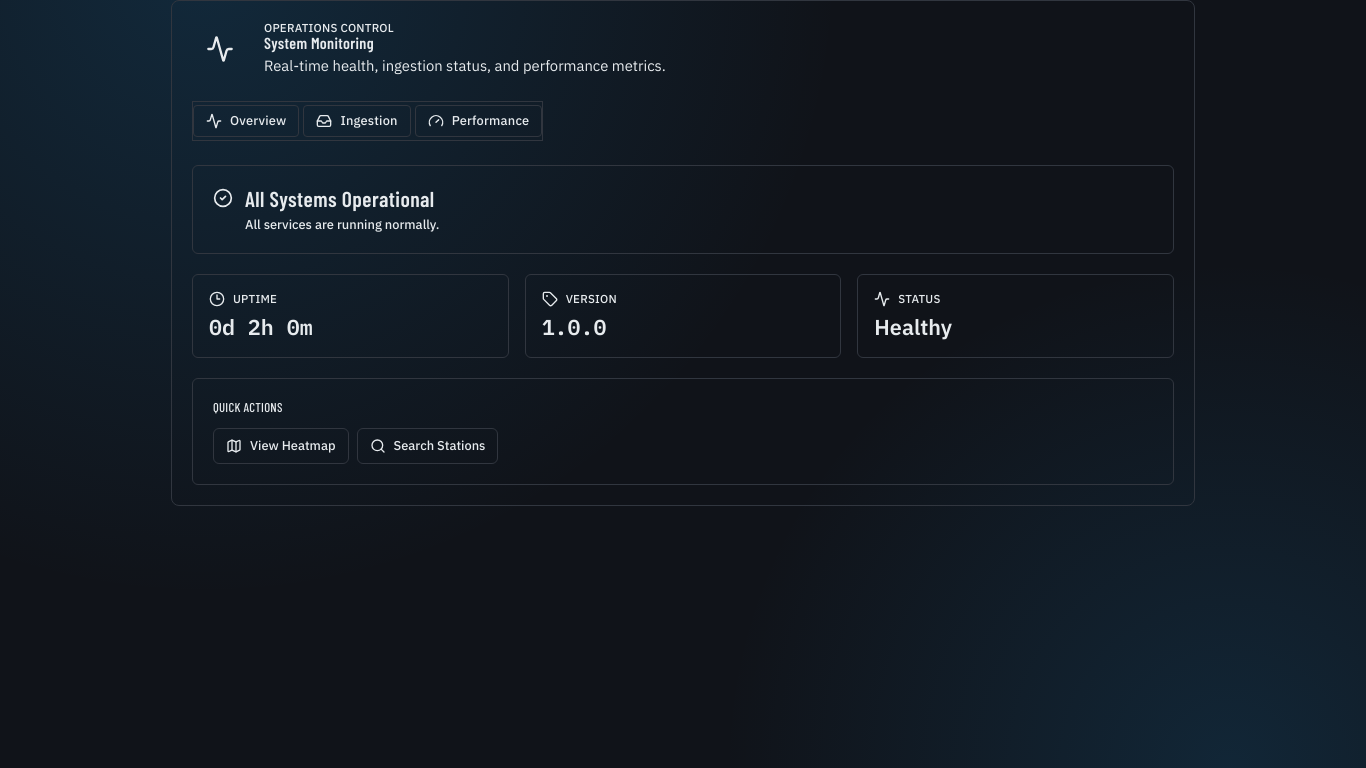
Test: MonitoringPage › switches to Ingestion tab when clicked
This screenshot has width=1366, height=768.
Click the tab "Ingestion" at (357,121), box left=303, top=105, right=411, bottom=137
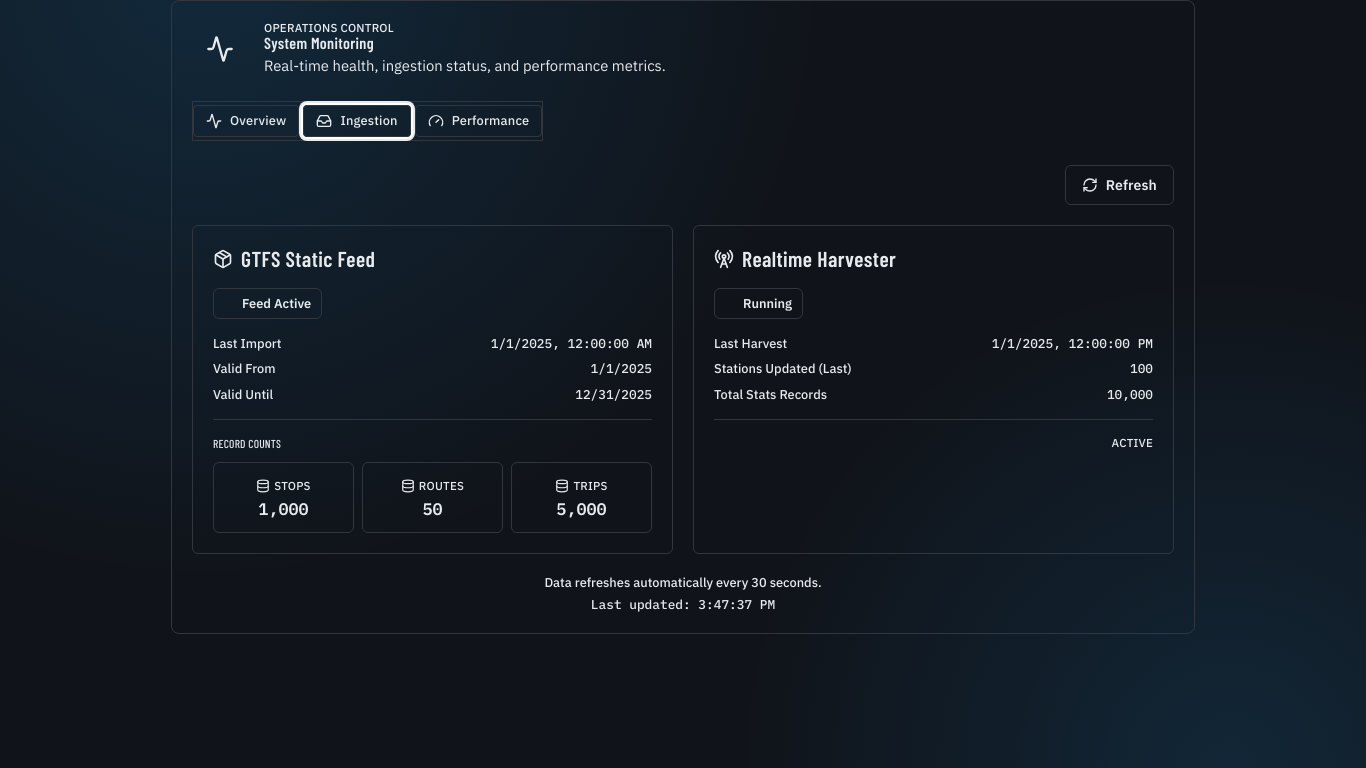
Check: the heading "GTFS Static Feed" is shown, box left=241, top=246, right=375, bottom=272
